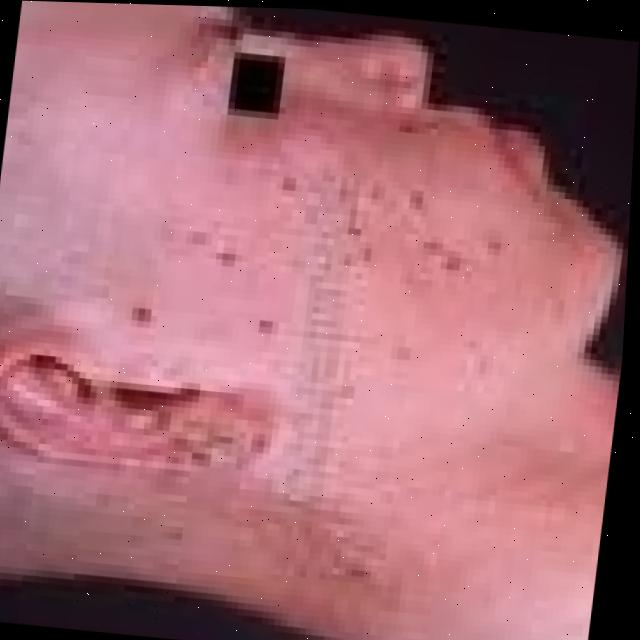Melasma: (205, 155, 499, 414), (117, 391, 397, 640)
